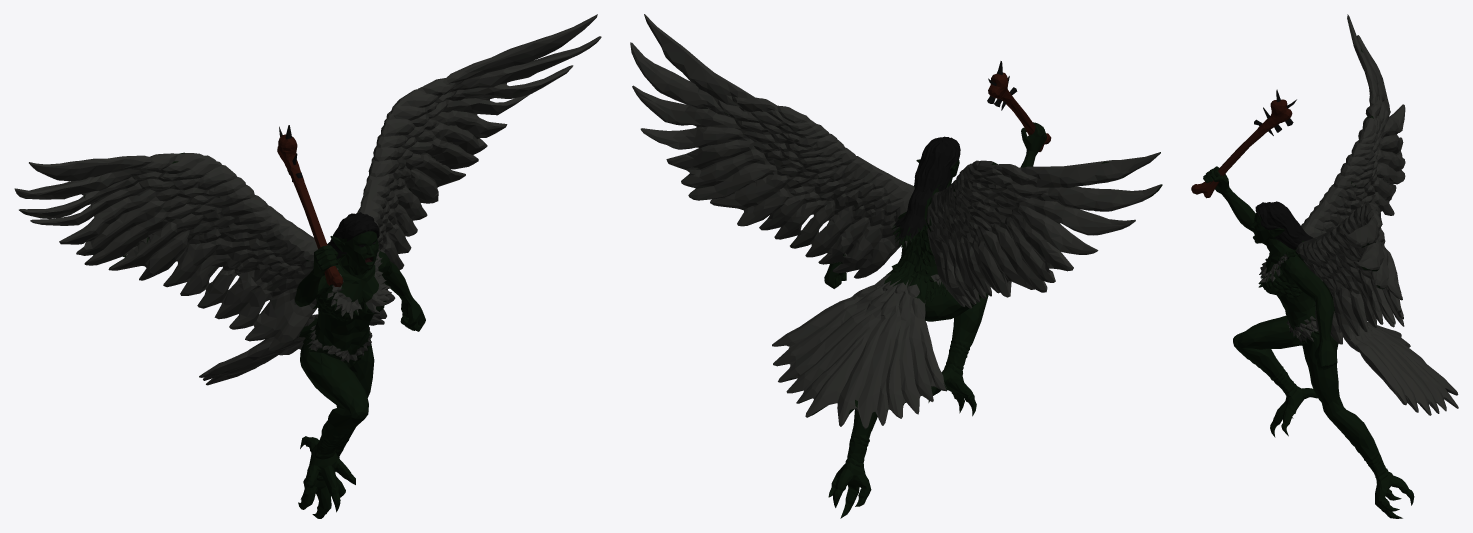
Rendered from harpy.obj.
The picture shows the model from 3 angles, left to right: view 1: azimuth 30°, elevation 25°; view 2: azimuth 150°, elevation 25°; view 3: azimuth 270°, elevation 25°; orthographic projection. The views are drawn at different scales.
Visible parts, largest first — view 1: harpy; view 2: harpy; view 3: harpy.
Part boxes in pixels (x1,y1,x2,y2): harpy: (14,14,601,518); harpy: (630,14,1162,518); harpy: (1191,14,1458,518).
Size of the model in its own units: 6.66 by 5.11 by 3.19.
